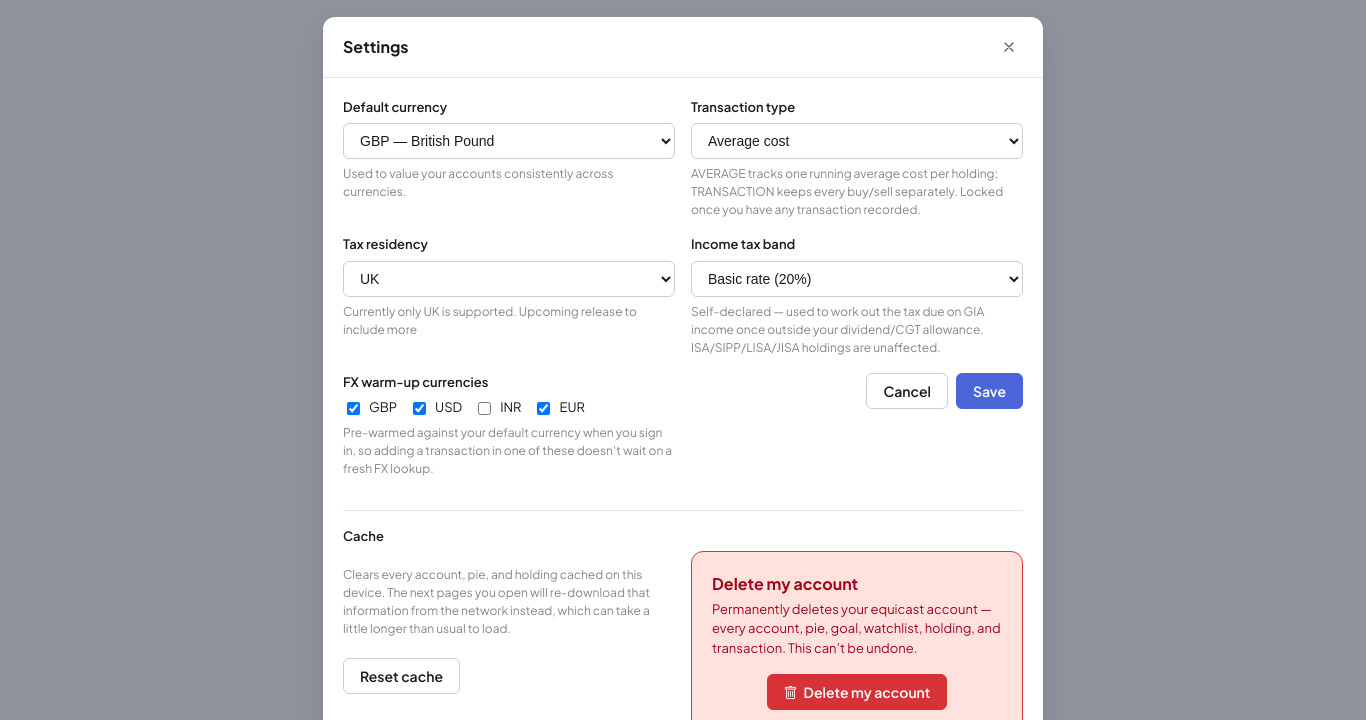
Test: SettingsModal › shows an error and keeps the modal open on failure
Select "INR — Indian Rupee" in the dropdown labelled "Default currency" at (509, 141), box left=343, top=123, right=675, bottom=159
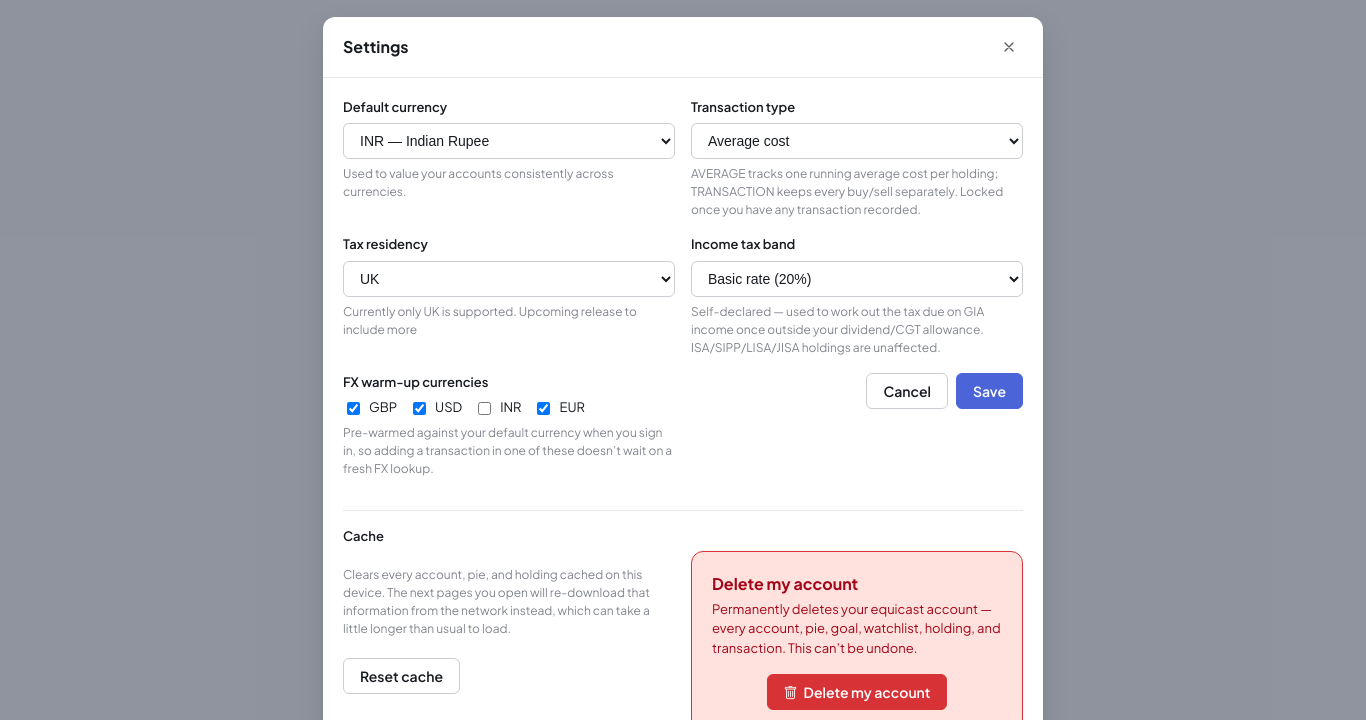
Click the button "Save".
click(990, 391)  # box left=956, top=373, right=1023, bottom=409
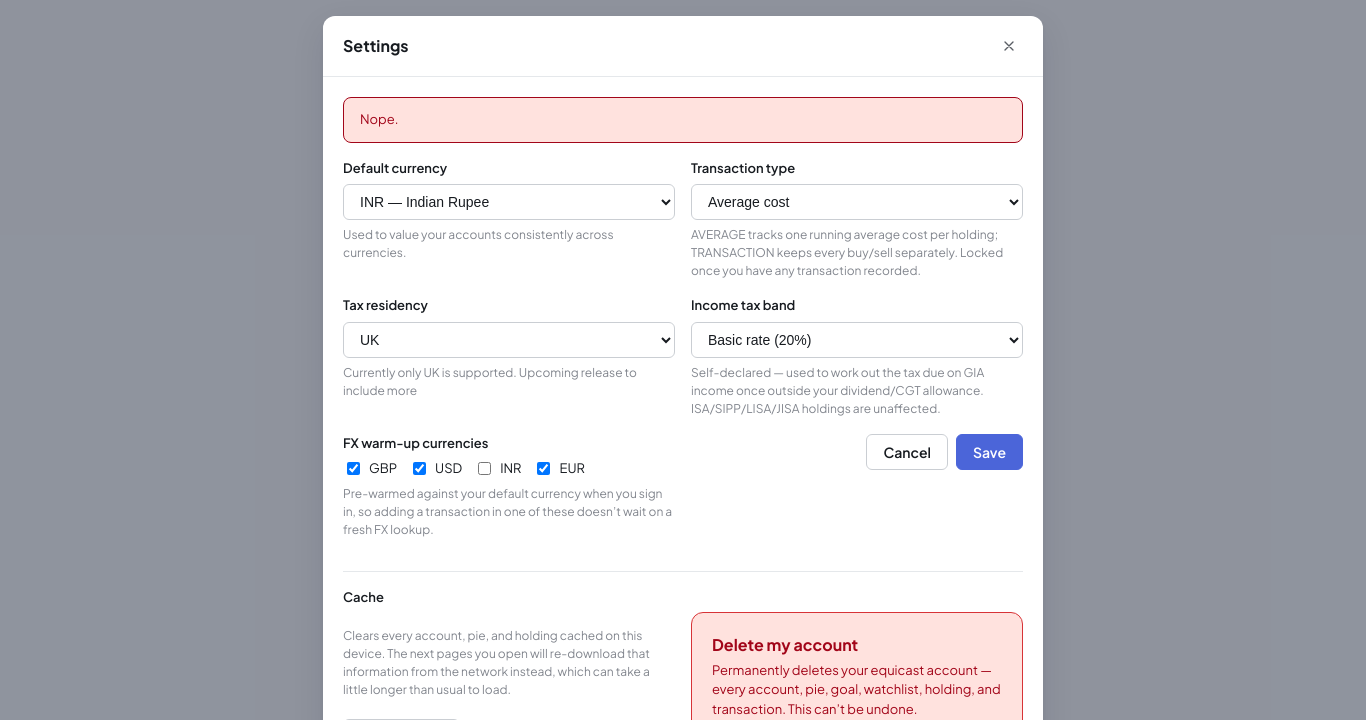
Result: the message reads "Nope." at left=360, top=111, right=398, bottom=127
